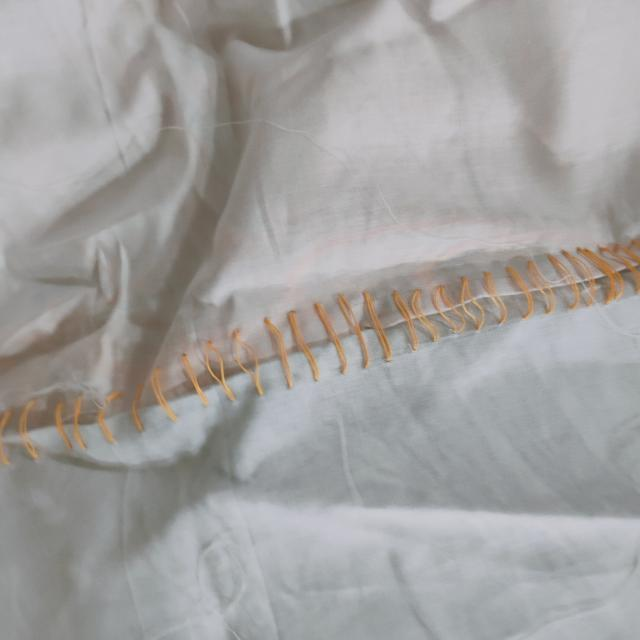seam: (1, 233, 640, 472)
